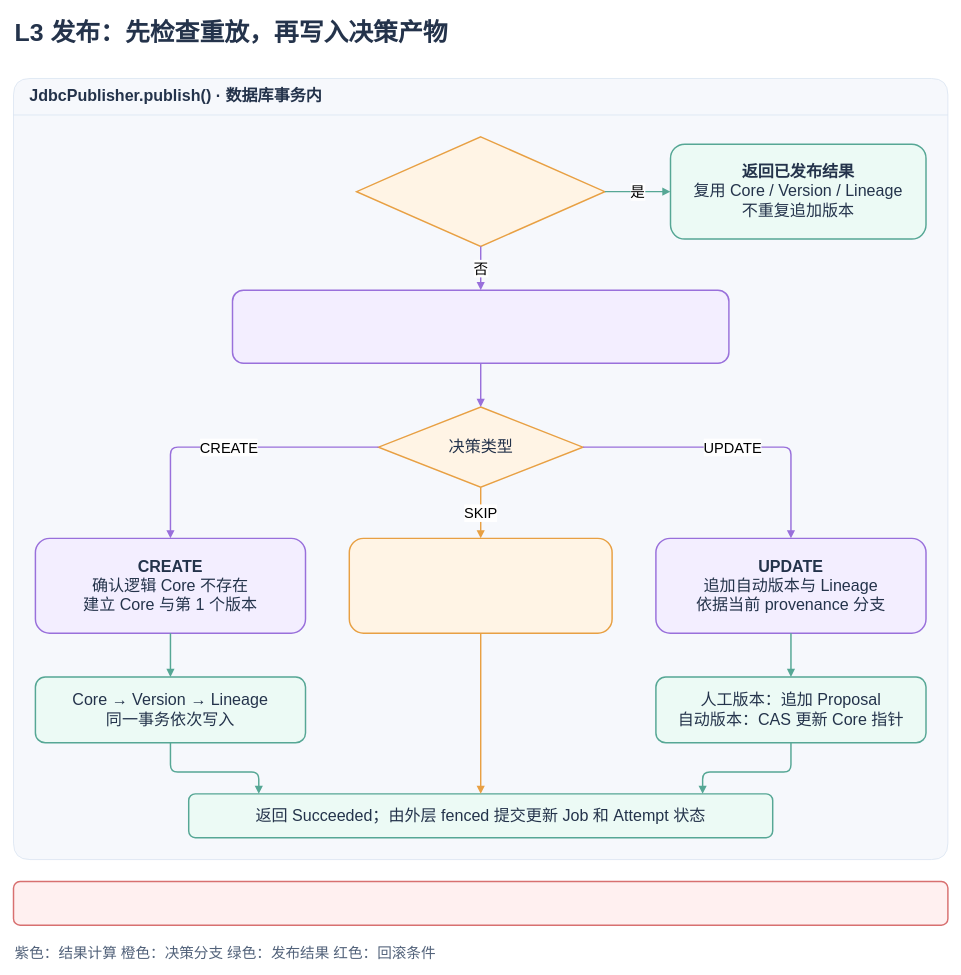
Image size: 961x975. Some labels were removed from this diagram. The shapes that lost their labels are listed below. From the top down, each one's box as (x1, y1, x2, y2) in pixels, then its label:
(356, 136, 605, 247): 本 Job 已有 L3 Lineage？
(231, 289, 729, 364): 读取历史版本，构建 staged state DefaultL3EvolutionPublisher 在副本中计算结果
(348, 537, 612, 634): SKIP 仅保留 skipReason 不创建内容产物
(12, 880, 948, 926): 任何写入异常或 Core CAS 冲突都使事务回滚，本次追加的版本与谱系一起撤销。
